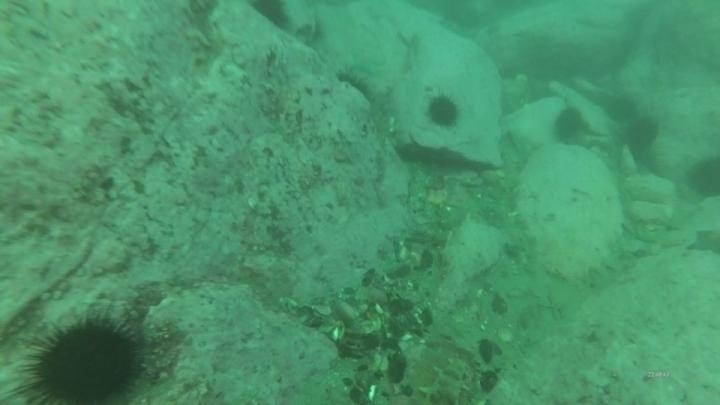echinus: (16, 312, 147, 404), (336, 68, 378, 108), (685, 154, 720, 200), (249, 1, 294, 36), (623, 114, 661, 153), (550, 106, 587, 146), (424, 93, 462, 131), (602, 92, 639, 125)
holothurian: (417, 353, 476, 404)
starfish: (345, 50, 387, 76), (685, 227, 720, 258)
